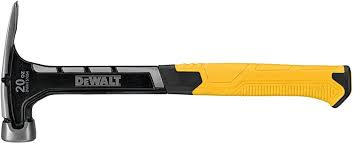hammer: (1, 1, 353, 143)
